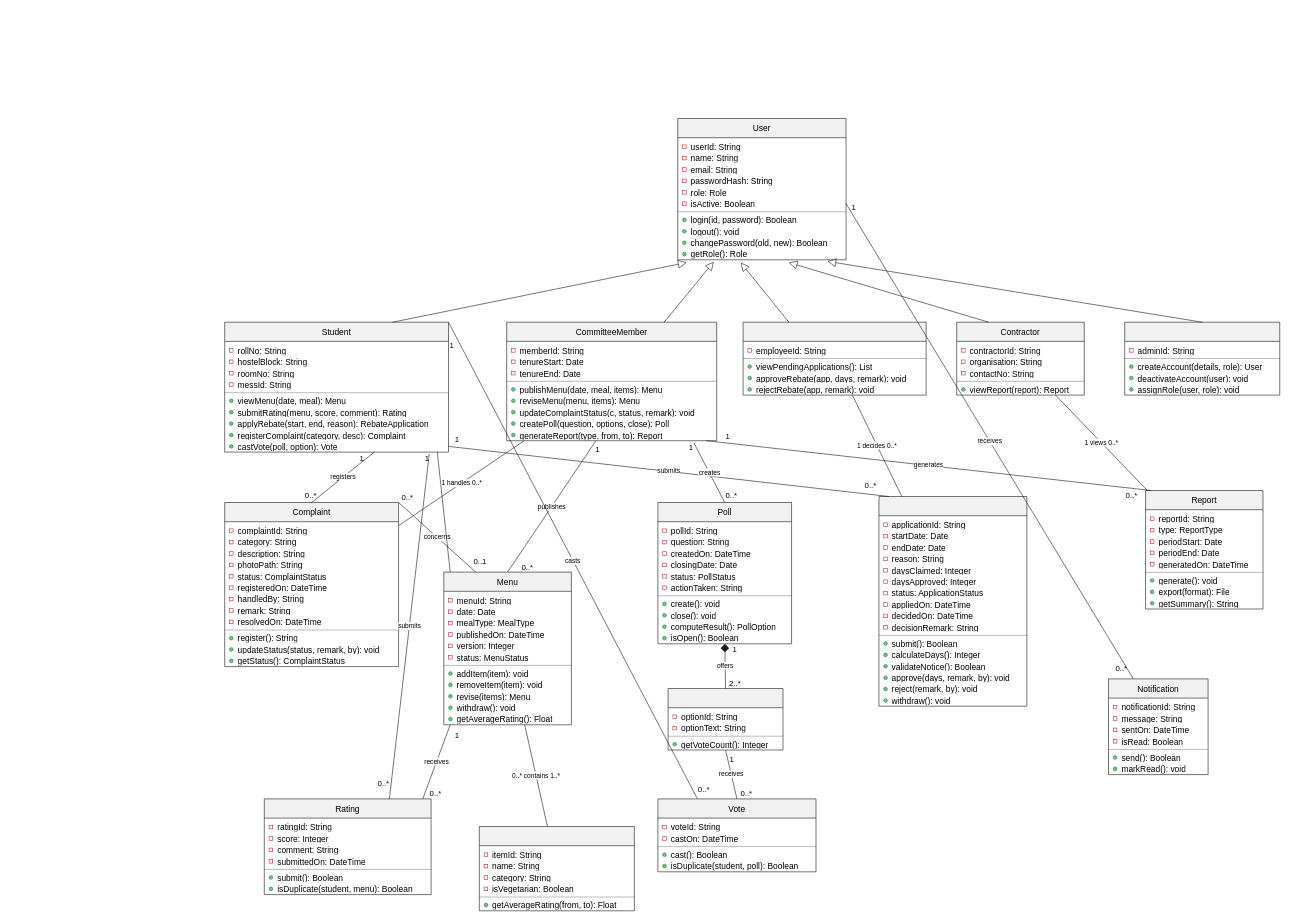
This 1290x921 diagram has some shape labels left out. The shapes that lost their labels are listed below. From the top down, each one's box as (x1, y1, x2, y2) in pixels, then its label:
(742, 322, 926, 395): Warden
(1124, 322, 1280, 395): Administrator
(878, 496, 1027, 706): RebateApplication
(668, 688, 783, 750): PollOption
(479, 826, 634, 911): MenuItem
